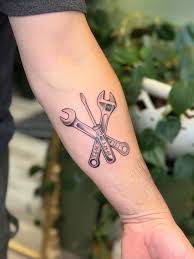Screwdriver: (81, 93, 113, 161)
Wrench: (60, 108, 128, 167), (97, 91, 116, 131)
